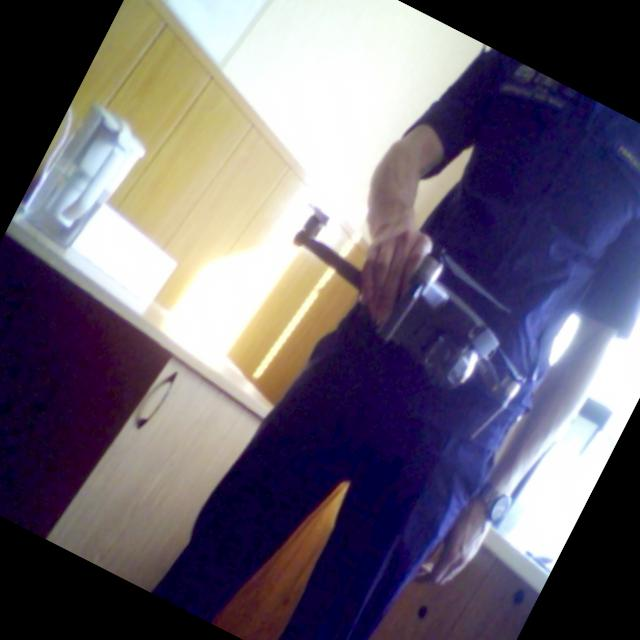drone: (230, 168, 592, 472)
